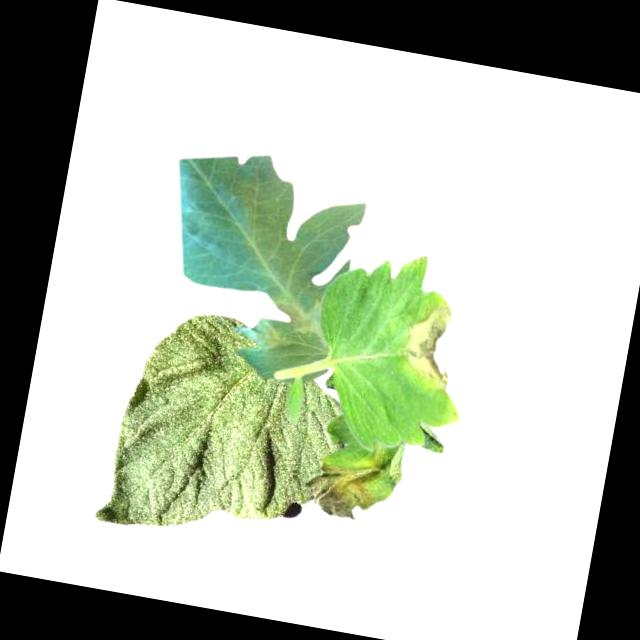Late_blight: (396, 298, 466, 389), (307, 454, 385, 525), (267, 293, 325, 339)
healthy: (94, 300, 359, 560)
